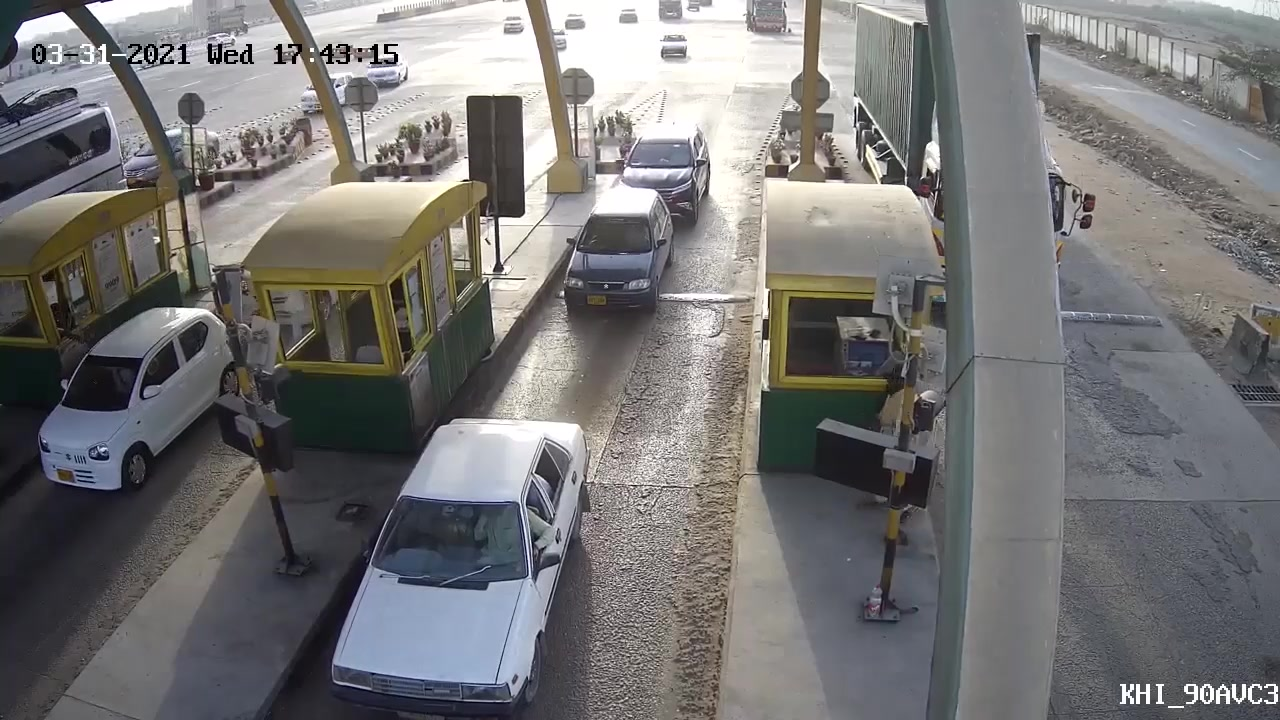F1: (312, 413, 598, 712), (560, 182, 682, 322), (614, 127, 715, 216)
